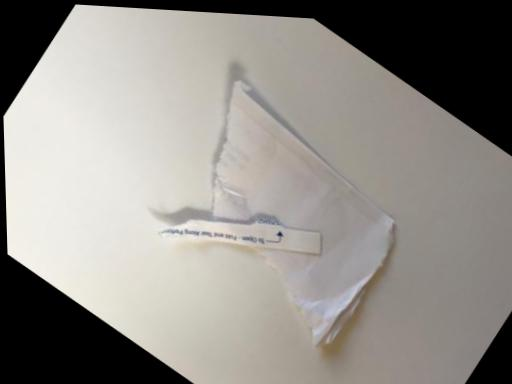paper: (5, 9, 451, 383)
